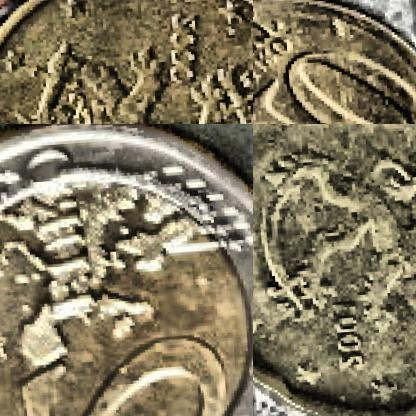coin: (0, 124, 252, 415), (253, 124, 415, 415), (0, 0, 252, 123), (253, 0, 415, 123)
